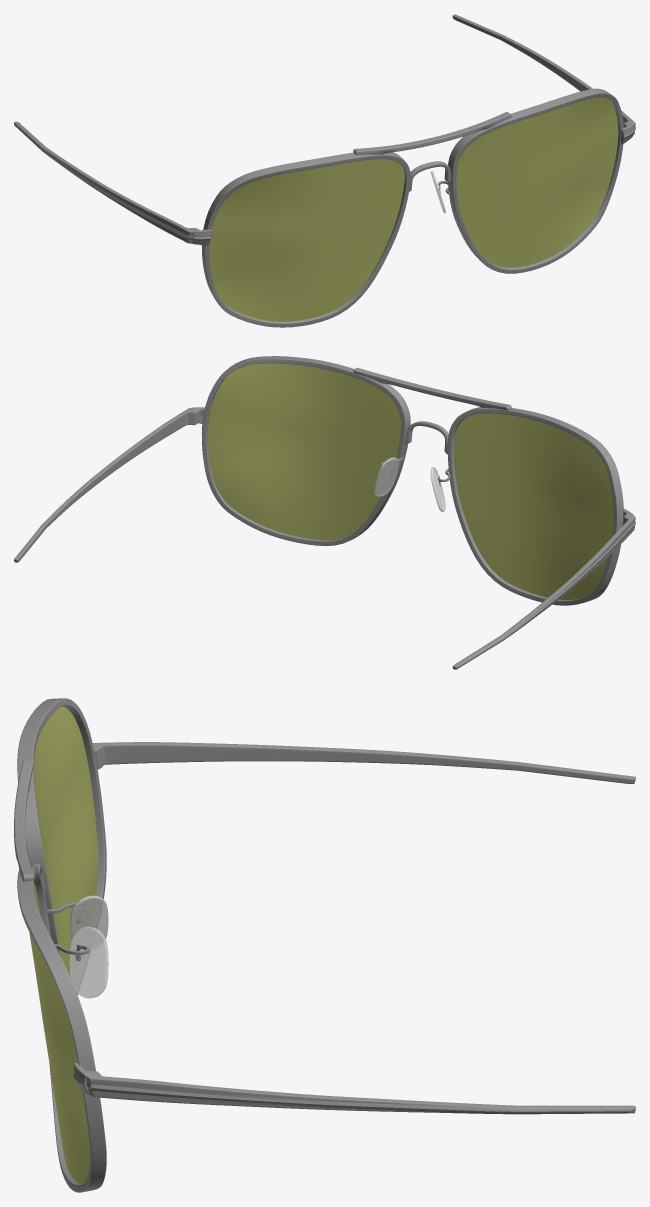
File: Chrm_sem_maps.glb
3 renders of one model, top to bottom at view 1: azimuth 30°, elevation 25°; view 2: azimuth 150°, elevation 25°; view 3: azimuth 270°, elevation 25°, orthographic. The views are drawn at different scales.
Parts seen in each view (by area): view 1: Lentes, armacao; view 2: Lentes, armacao, Pontes; view 3: armacao, Lentes, Pontes.
Part boxes in pixels (bbox=[...]): Lentes: bbox=[209, 97, 618, 321]; armacao: bbox=[14, 14, 635, 327]; Lentes: bbox=[207, 363, 613, 599]; armacao: bbox=[14, 356, 635, 669]; Pontes: bbox=[373, 457, 445, 512]; armacao: bbox=[14, 698, 635, 1192]; Lentes: bbox=[29, 706, 98, 1184]; Pontes: bbox=[69, 895, 108, 998].
Size of the model in its own units: 0.1573 by 0.0556 by 0.1173.
